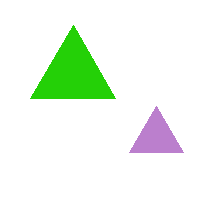triangle: (30, 25, 115, 98), (129, 106, 183, 152)
